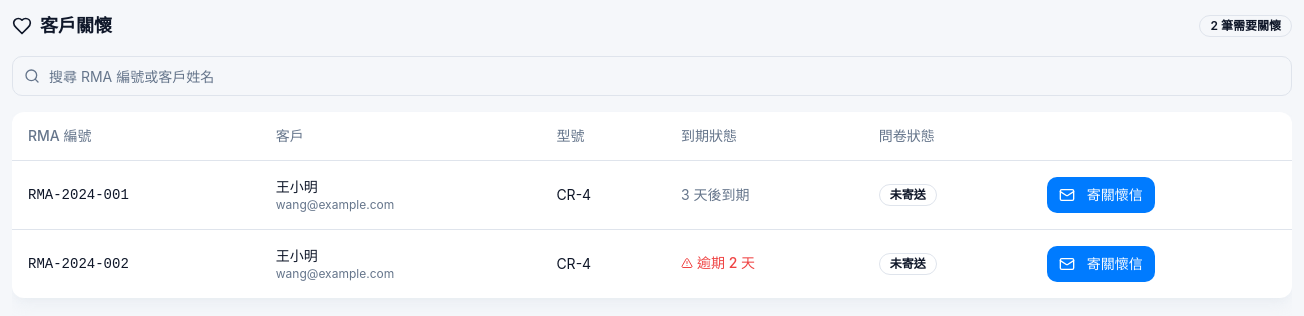
Test: FollowUpTab - 搜尋過濾 › 以 RMA 編號搜尋：僅顯示符合項目
Expected: the text "RMA-2024-001" is shown, [12,160,260,229]
Type "RMA-2024-002" into the field with placeholder "搜尋 RMA 編號或客戶姓名". click: (652, 76)
box: [12,56,1292,96]
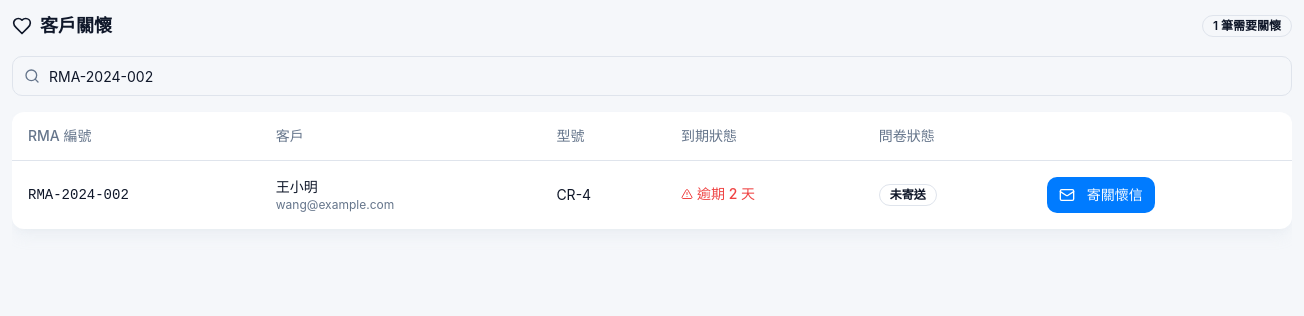
Expected: the text "RMA-2024-002" is shown, [12,160,260,228]
Now the text "RMA-2024-001" is gone
